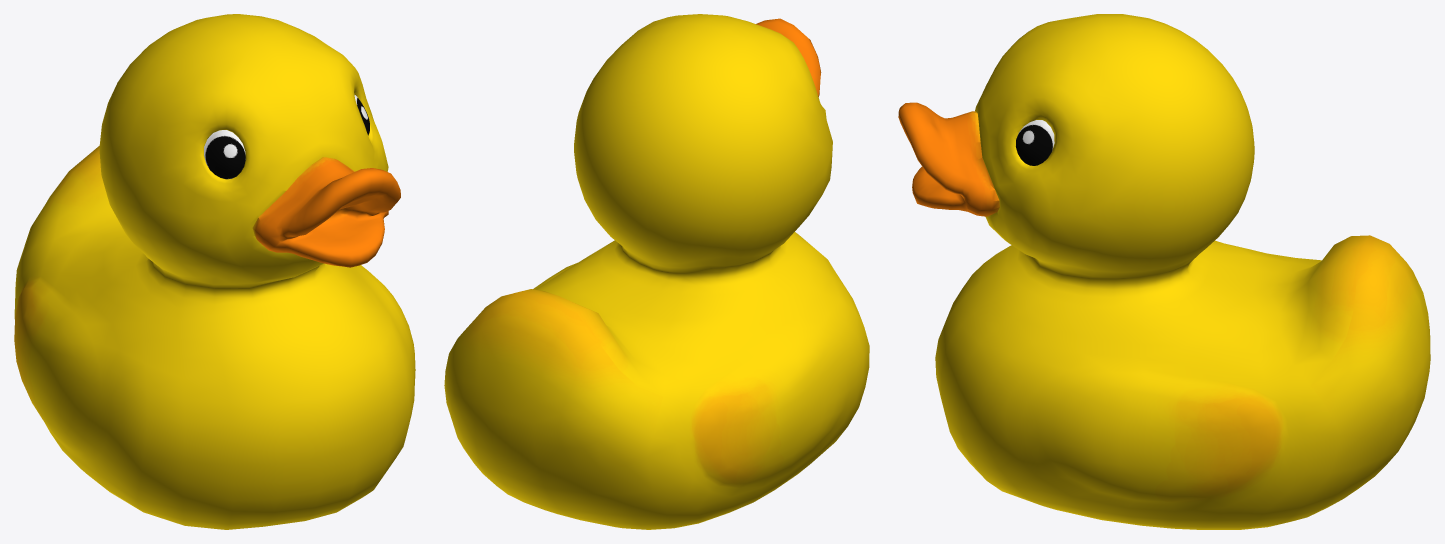
The model's file is duck.glb.
The picture shows the model from 3 angles, left to right: view 1: azimuth 30°, elevation 25°; view 2: azimuth 150°, elevation 25°; view 3: azimuth 270°, elevation 25°; orthographic projection. The views are drawn at different scales.
Visible parts, largest first — view 1: LOD3spShape; view 2: LOD3spShape; view 3: LOD3spShape.
Boxes of the visible parts, x1,y1,x2,y2 form: LOD3spShape: [14, 14, 415, 529]; LOD3spShape: [444, 14, 869, 529]; LOD3spShape: [898, 14, 1430, 529].
Bounding box in the file's own units: 1.17 × 1.54 × 1.66.
1 material, 1 textured.
